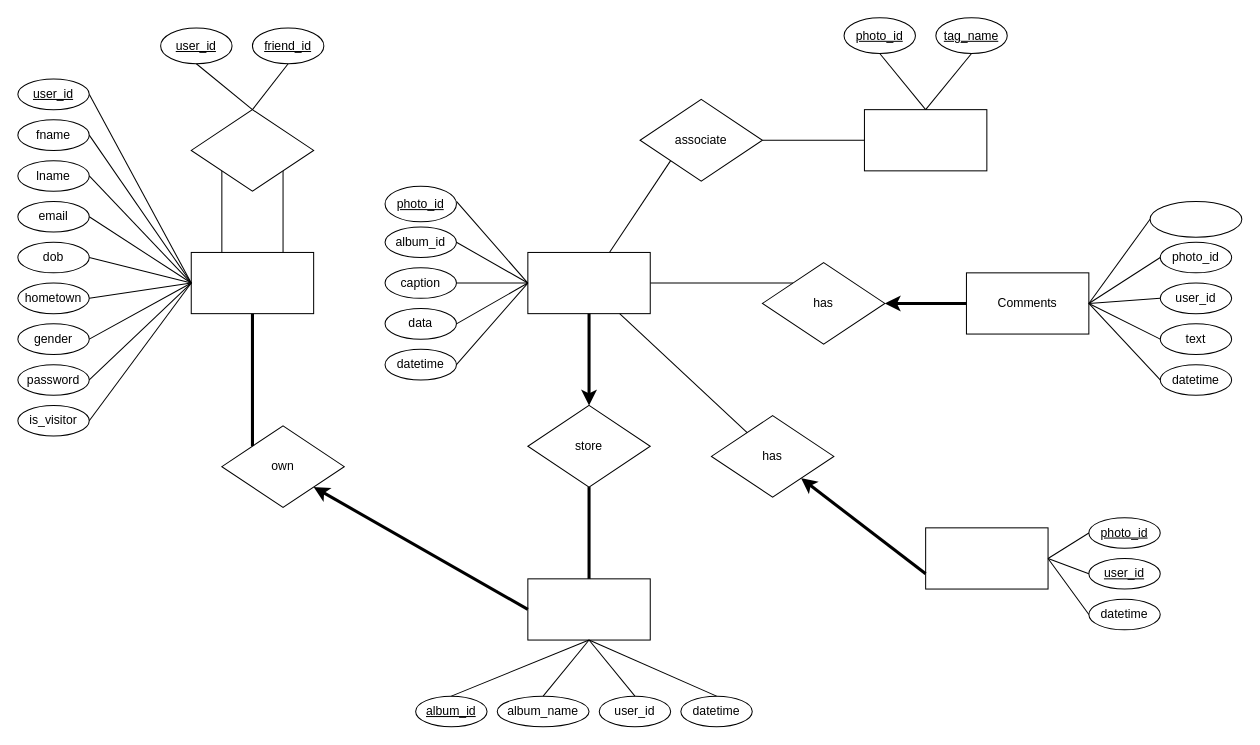
Image size: 1260x745. Some labels were removed from this diagram. The centre of each missing label's shape, as x and y in pixels:
Albums: (588,609)
comment_id: (1195,218)
Friend: (252,150)
Likes: (986,558)
Photos: (588,282)
Tags: (925,140)
Users: (252,282)
